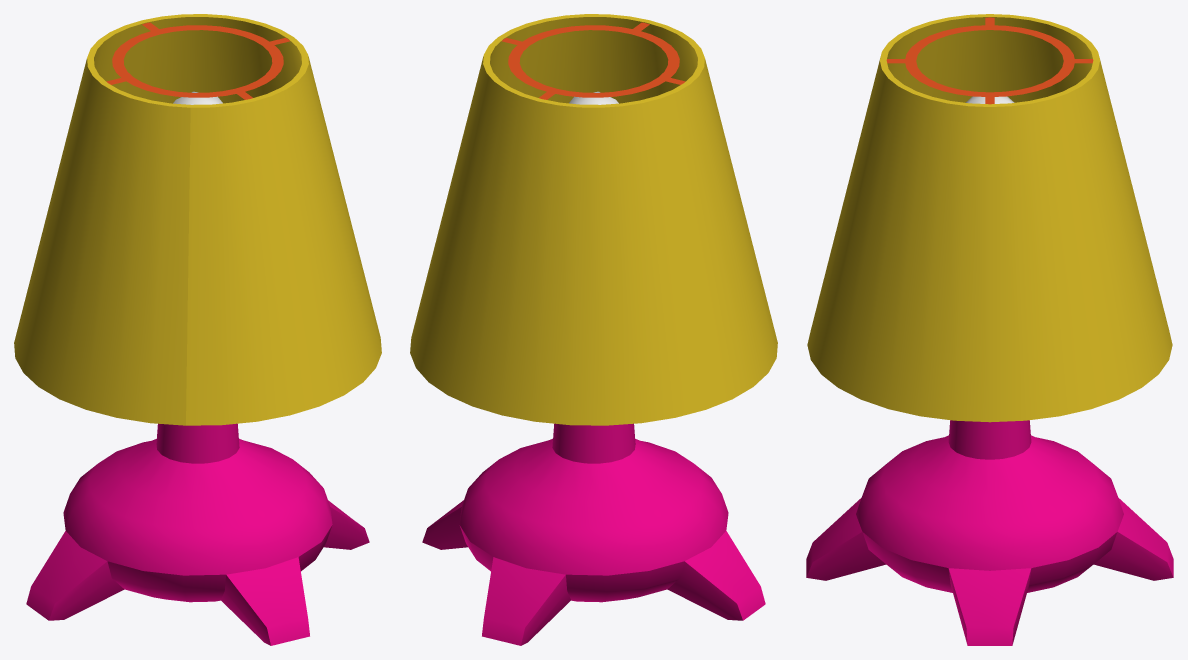
Rendered from lAmp (2).fbx.
3 renders of one model, left to right at view 1: azimuth 30°, elevation 25°; view 2: azimuth 150°, elevation 25°; view 3: azimuth 270°, elevation 25°, orthographic.
Parts seen in each view (by area): view 1: Sphere.001; view 2: Sphere.001; view 3: Sphere.001.
Part boxes in pixels (x1=…): Sphere.001: x1=14, y1=14, x2=381, y2=645; Sphere.001: x1=410, y1=14, x2=777, y2=645; Sphere.001: x1=806, y1=14, x2=1173, y2=645.
Size of the model in its own units: 543 by 840 by 543.
